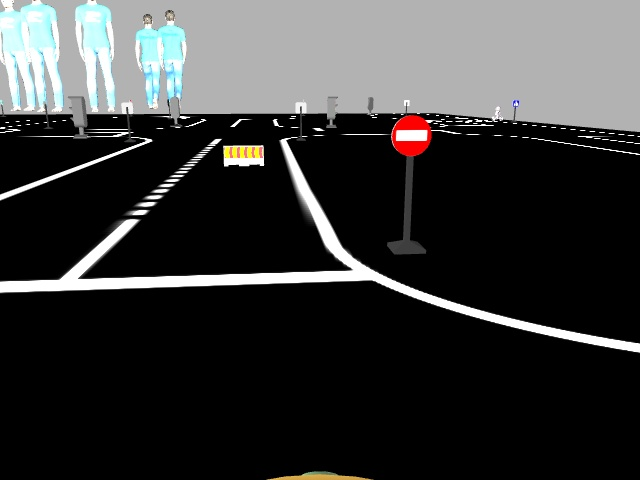ClosedRoadStand: (224, 146, 264, 164)
NoEntry: (391, 117, 428, 154)
